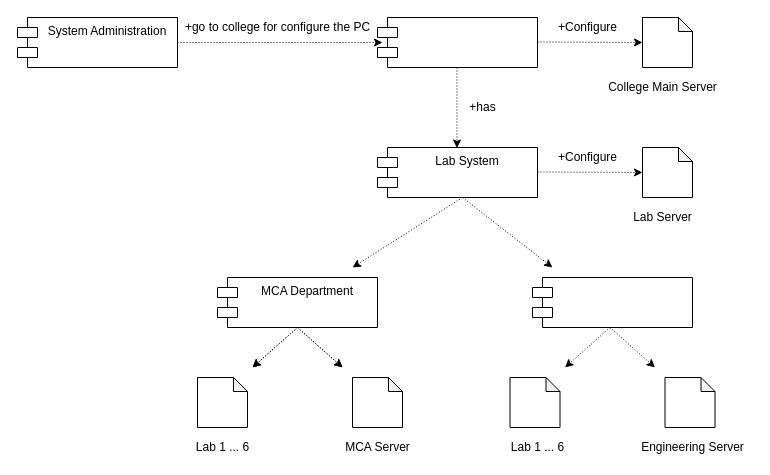
This 770x475 diagram has some shape labels left out. Each missing label, with the centre of its shape:
College System: point (457, 42)
Engineering Department: point (612, 302)
